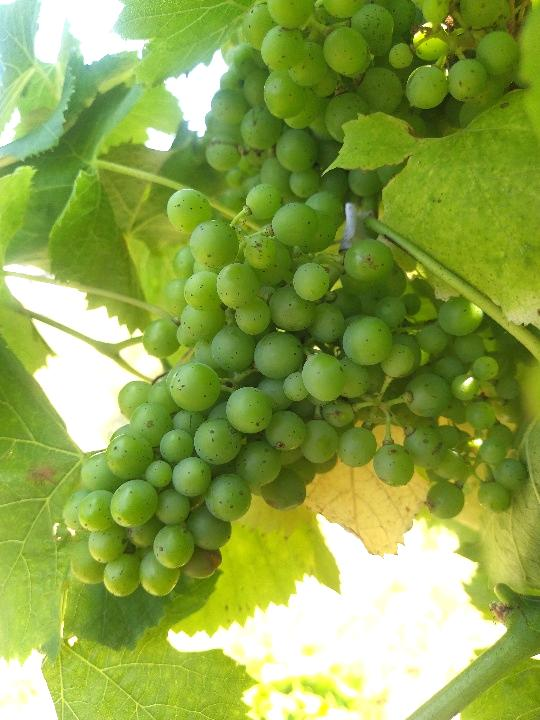grape: (57, 182, 529, 600)
